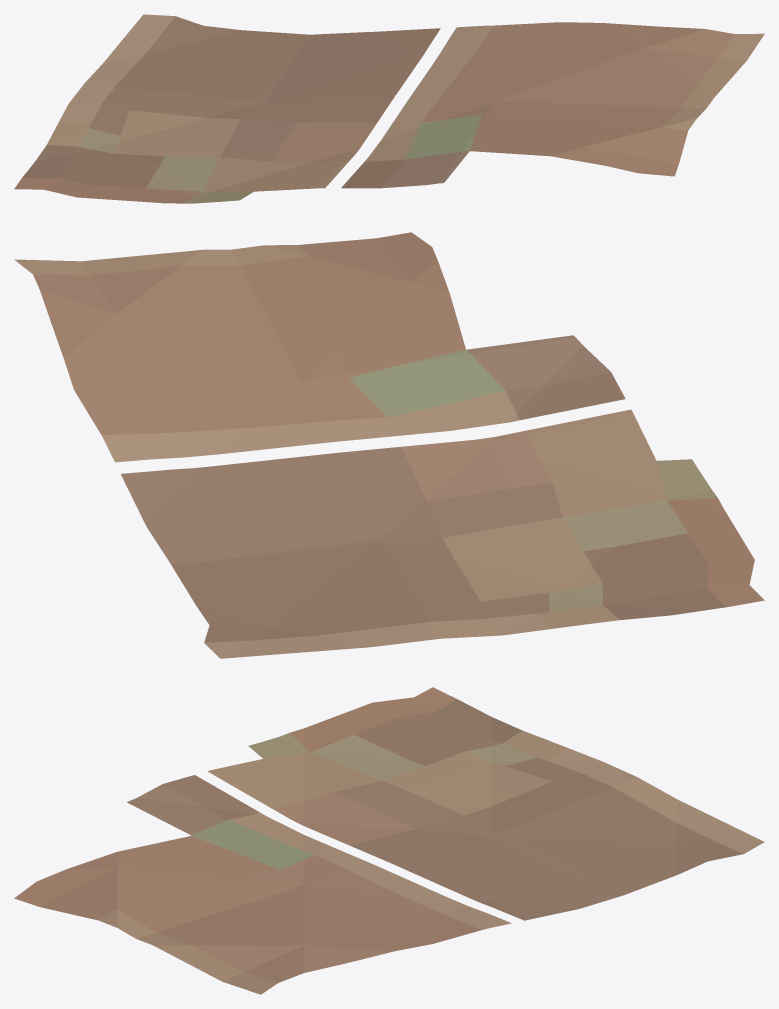
File: farm_-6_-5_soil.glb
3 renders of one model, top to bottom at view 1: azimuth 30°, elevation 25°; view 2: azimuth 150°, elevation 25°; view 3: azimuth 270°, elevation 25°, orthographic. The views are drawn at different scales.
Parts seen in each view (by area): view 1: geometry_0; view 2: geometry_0; view 3: geometry_0.
Boxes of the visible parts, left/top/right/bottom form: geometry_0: left=14, top=14, right=764, bottom=203; geometry_0: left=14, top=232, right=764, bottom=658; geometry_0: left=14, top=687, right=764, bottom=994.
Size of the model in its own units: 366 by 28.62 by 321.
